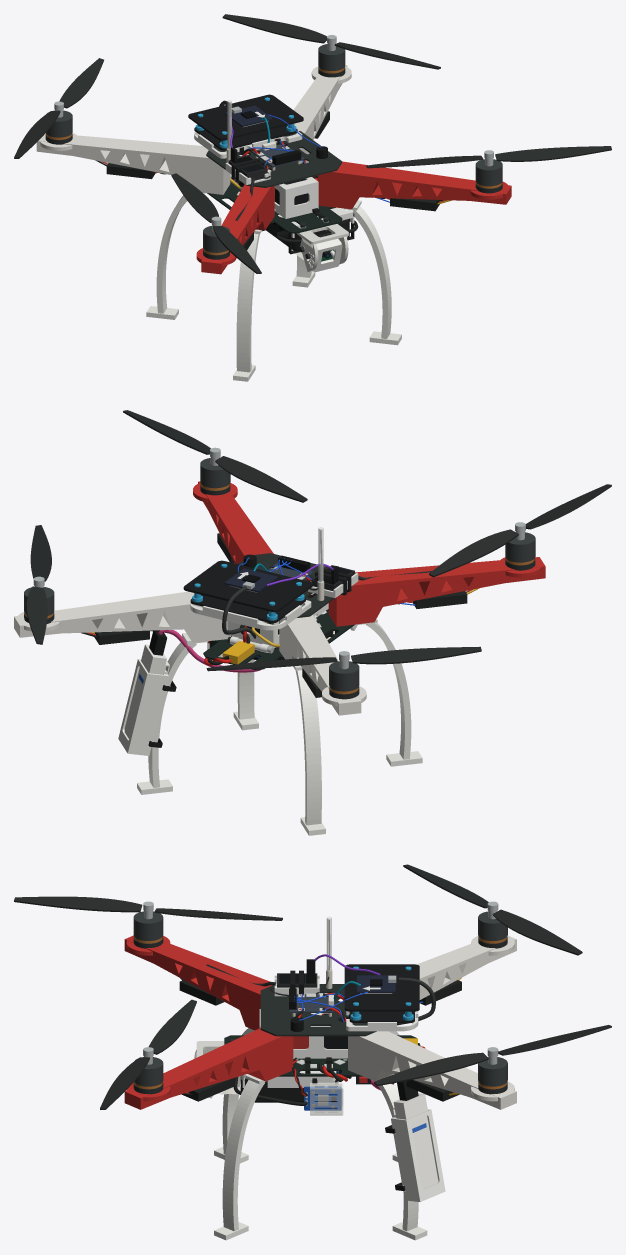
Rendered from f450-drone.glb.
3 renders of one model, top to bottom at view 1: azimuth 30°, elevation 25°; view 2: azimuth 150°, elevation 25°; view 3: azimuth 270°, elevation 25°, orthographic. The views are drawn at different scales.
Visible parts, largest first — view 1: Arms and ESCs, Motors and props, Landing gear, Damper plate (upper), Top plate, Bottom plate (PDB), Battery box (printed), Tilt mount (printed), Damper plate (lower), IO board, FC deck (printed), Flight controller (+2 smaller); view 2: Arms and ESCs, Motors and props, Landing gear, Damper plate (upper), MF833 sleeve (printed), Bottom plate (PDB), FC deck (printed), ZTE MF833 4G stick, Damper plate (lower), Top plate, Modem extension, Flight controller (+1 smaller); view 3: Arms and ESCs, Motors and props, Landing gear, Top plate, Damper plate (upper), MF833 sleeve (printed), ZTE MF833 4G stick, BEC sleeve (printed), Bottom plate (PDB), Matek BEC12S-PRO, IO board, Battery box (printed) (+7 smaller).
Boxes of the visible parts, x1,y1,x2,y2 form: Arms and ESCs: (36,65,511,274); Motors and props: (14,14,611,273); Landing gear: (146,192,401,381); Damper plate (upper): (188,94,303,140); Top plate: (206,131,342,187); Bottom plate (PDB): (207,176,342,233); Battery box (printed): (232,154,318,218); Tilt mount (printed): (297,224,348,271); Damper plate (lower): (194,125,297,150); IO board: (251,141,304,170); FC deck (printed): (194,131,302,158); Flight controller: (224,105,272,126); Arms and ESCs: (14,481,545,715); Motors and props: (24,410,611,699); Landing gear: (137,618,422,835); Damper plate (upper): (183,560,312,612); MF833 sleeve (printed): (118,659,169,755); Bottom plate (PDB): (203,609,354,670); FC deck (printed): (190,600,311,630); ZTE MF833 4G stick: (124,644,166,738); Damper plate (lower): (190,594,305,623); Top plate: (238,553,334,617); Modem extension: (149,630,279,672); Flight controller: (224,568,278,592); Arms and ESCs: (124,935,516,1109); Motors and props: (14,864,611,1109); Landing gear: (214,1028,427,1240); Top plate: (260,984,376,1036); Damper plate (upper): (344,964,419,1011); MF833 sleeve (printed): (391,1107,445,1201); ZTE MF833 4G stick: (393,1093,438,1189); BEC sleeve (printed): (310,1082,343,1115); Bottom plate (PDB): (224,1035,416,1076); Matek BEC12S-PRO: (304,1086,341,1110); IO board: (289,988,334,1016); Battery box (printed): (259,1009,347,1058).
Bounding box in the file's own units: 0.5414 × 0.2637 × 0.5585.
